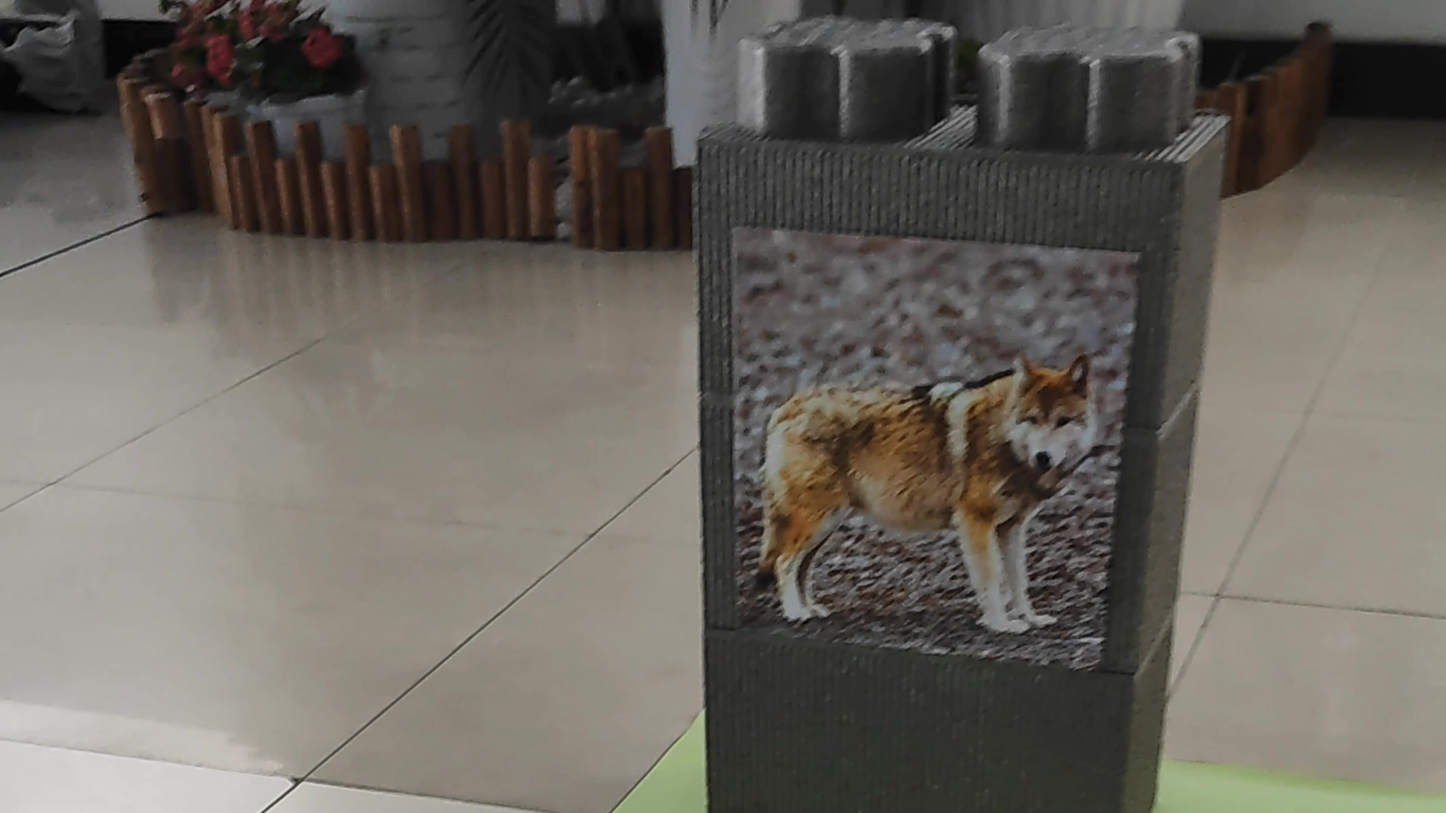wolf: (717, 308, 1095, 667)
